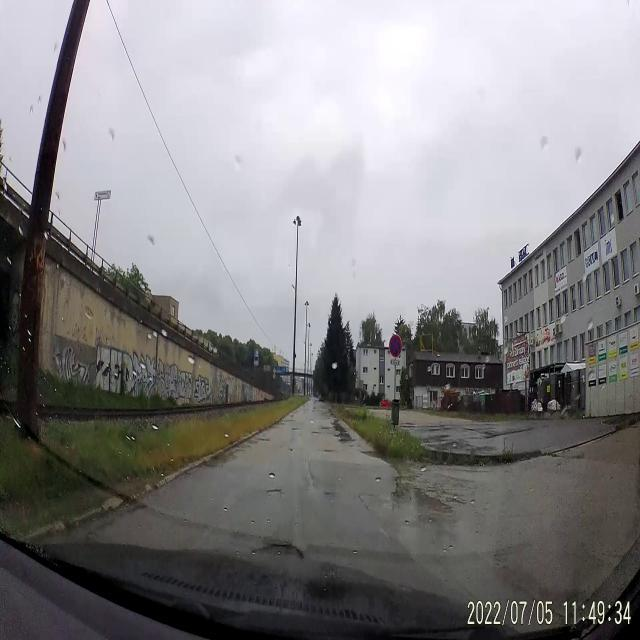Pothole: (252, 536, 310, 566), (260, 483, 286, 498), (323, 486, 339, 499), (321, 444, 338, 456)
